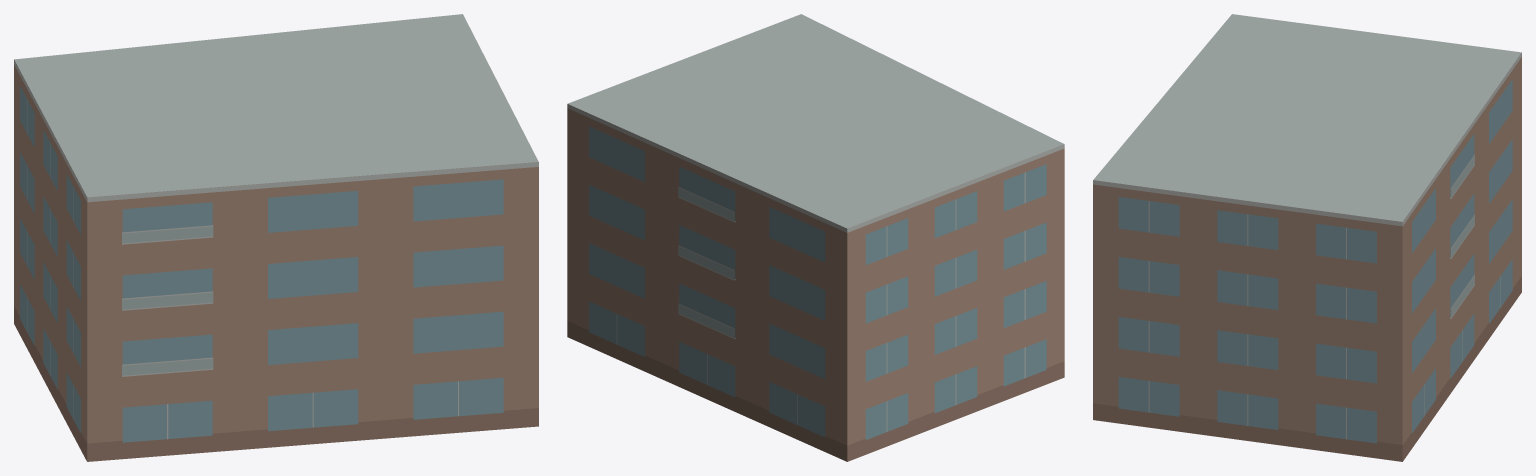
File: survey-upis-33029927.glb
3 views of the same model, side by side, from view 1: azimuth 30°, elevation 25°; view 2: azimuth 150°, elevation 25°; view 3: azimuth 270°, elevation 25° (orthographic). The views are drawn at different scales.
Parts seen in each view (by area): view 1: survey-upis-33029927.tmp; view 2: survey-upis-33029927.tmp; view 3: survey-upis-33029927.tmp.
Boxes of the visible parts, left/top/right/bottom form: survey-upis-33029927.tmp: left=14, top=14, right=538, bottom=461; survey-upis-33029927.tmp: left=567, top=14, right=1064, bottom=461; survey-upis-33029927.tmp: left=1093, top=14, right=1521, bottom=461.
Size of the model in its own units: 24.54 by 13.2 by 21.38.
